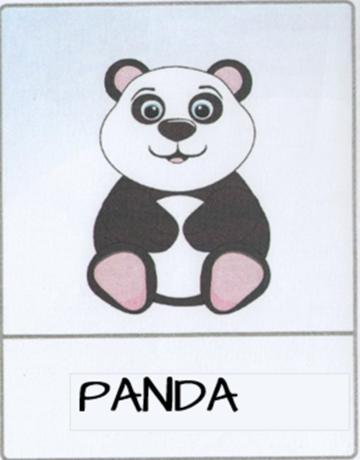panda: (1, 1, 360, 457)
